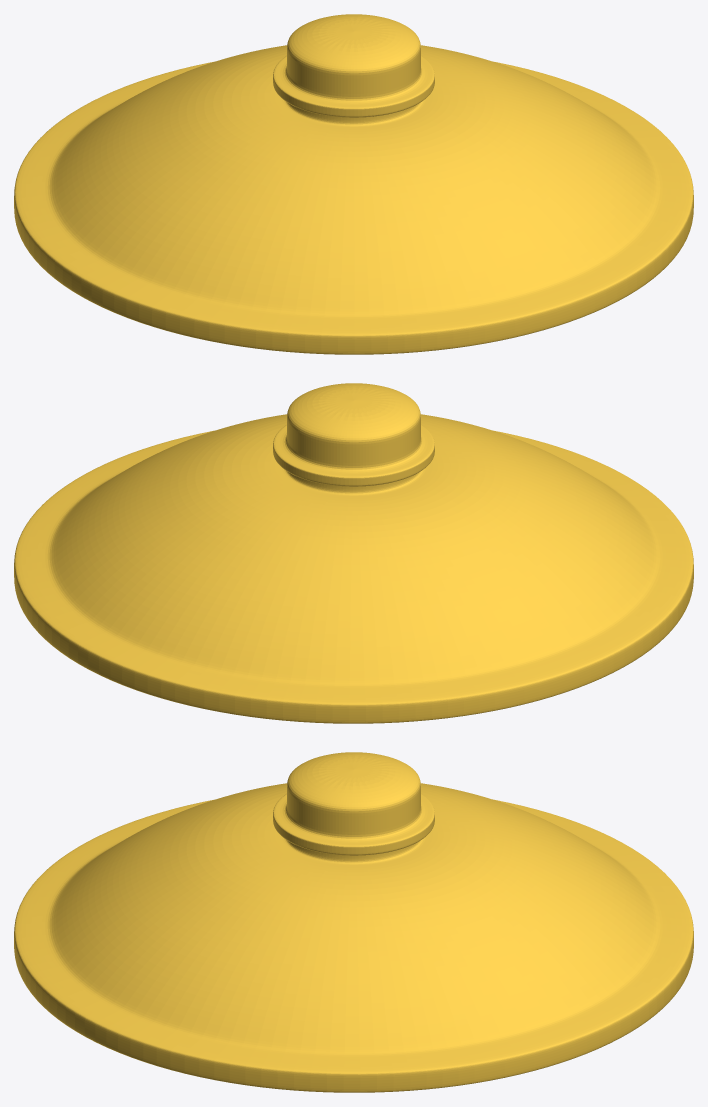
File: PotLid.fbx
The picture shows the model from 3 angles, top to bottom: view 1: azimuth 30°, elevation 25°; view 2: azimuth 150°, elevation 25°; view 3: azimuth 270°, elevation 25°; orthographic projection.
Parts seen in each view (by area): view 1: PotLid; view 2: PotLid; view 3: PotLid.
Boxes of the visible parts, box(x1,y1,x2,y2) form: PotLid: box(14, 14, 693, 354); PotLid: box(14, 383, 693, 723); PotLid: box(14, 752, 693, 1092).
Size of the model in its own units: 30.59 by 8.98 by 30.59.
